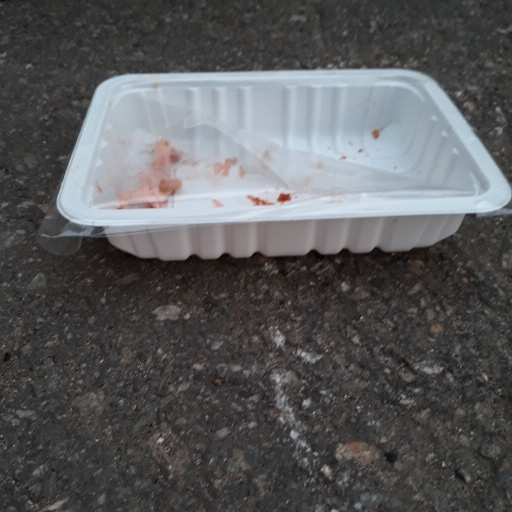Plastic_4: (54, 72, 510, 261)
